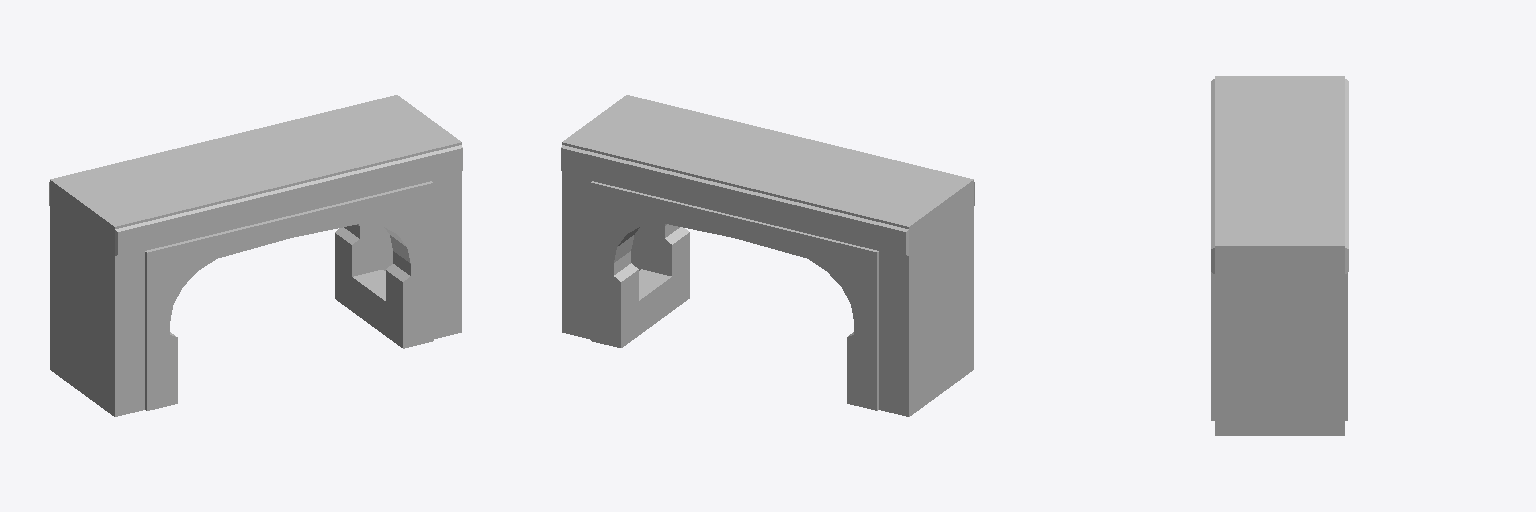
The model's file is 0012_BridgeNew.obj.
3 views of the same model, side by side, from view 1: azimuth 30°, elevation 25°; view 2: azimuth 150°, elevation 25°; view 3: azimuth 270°, elevation 25° (orthographic).
Visible parts, largest first — view 1: Bridge; view 2: Bridge; view 3: Bridge.
Boxes of the visible parts, <box> form: Bridge: <box>49,95,462,416</box>; Bridge: <box>561,95,974,416</box>; Bridge: <box>1211,76,1348,435</box>.
Bounding box in the file's own units: 591 × 309 × 203.